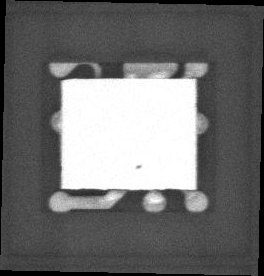DIE_INK: (128, 170, 138, 178)
